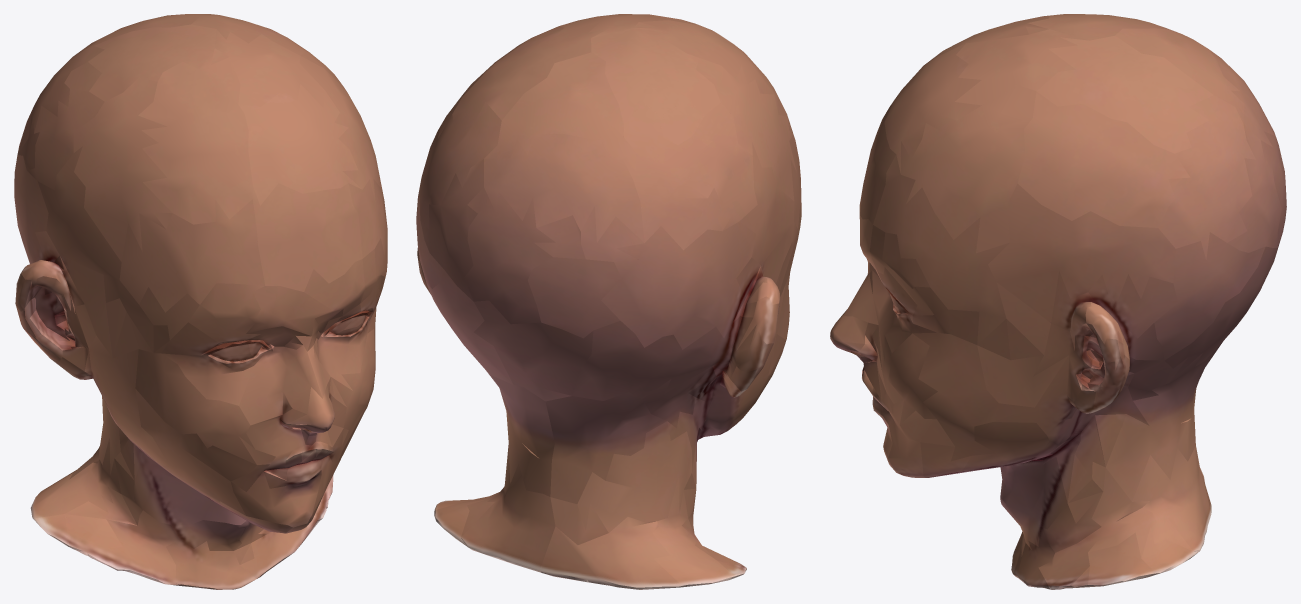
Rendered from fennal_m-tete.glb.
The picture shows the model from 3 angles, left to right: view 1: azimuth 30°, elevation 25°; view 2: azimuth 150°, elevation 25°; view 3: azimuth 270°, elevation 25°; orthographic projection. The views are drawn at different scales.
Visible parts, largest first — view 1: geometry_0; view 2: geometry_0; view 3: geometry_0.
Part boxes in pixels (x1,y1,x2,y2): geometry_0: [14, 14, 387, 589]; geometry_0: [416, 14, 801, 589]; geometry_0: [830, 14, 1286, 589].
Bounding box in the file's own units: 1.3 × 1.9 × 1.46.
Materials: 1 (1 with a texture image).
